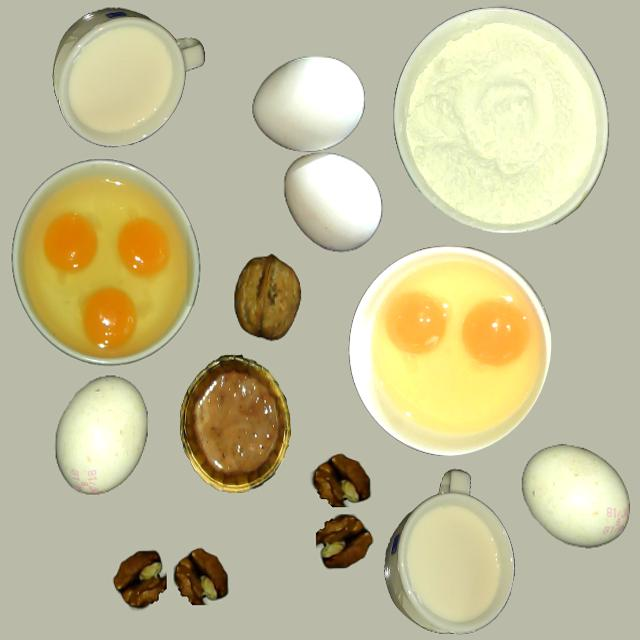Walnut: (224, 254, 304, 344)
